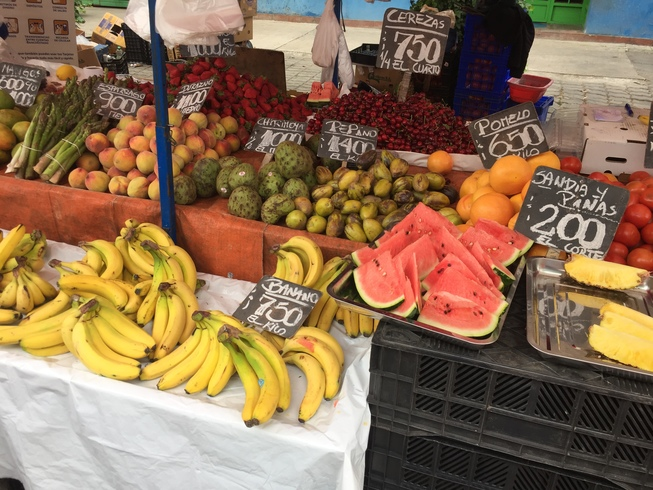precio: (510, 162, 632, 265), (225, 269, 327, 349), (454, 99, 558, 169), (380, 4, 450, 81), (316, 115, 384, 170), (244, 112, 307, 169), (160, 70, 222, 126), (84, 77, 152, 127), (1, 59, 55, 111)
